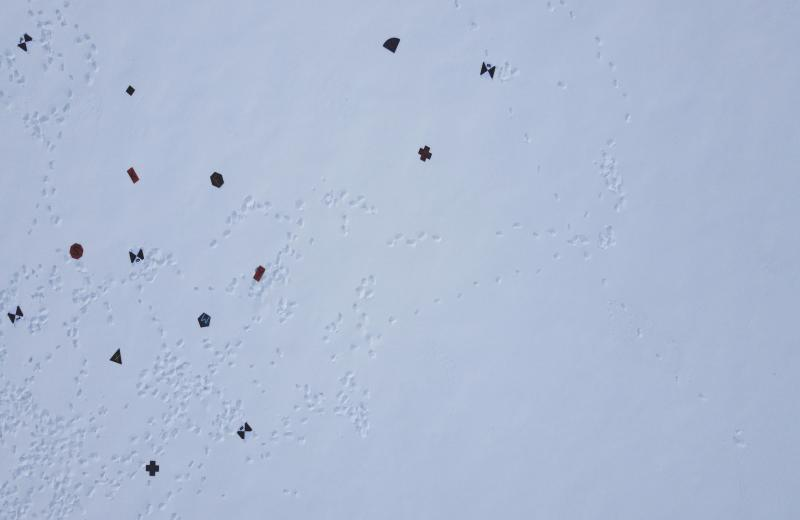Cross: (144, 460, 160, 477), (418, 144, 432, 162)
Hexagon: (210, 171, 224, 189)
Octagon: (70, 243, 84, 260)
Pentagon: (197, 312, 212, 329)
Quarter Circle: (382, 36, 401, 53)
Rectangle: (126, 166, 140, 184), (252, 264, 266, 282)
Square: (126, 85, 136, 96)
Triangle: (109, 348, 123, 366)
